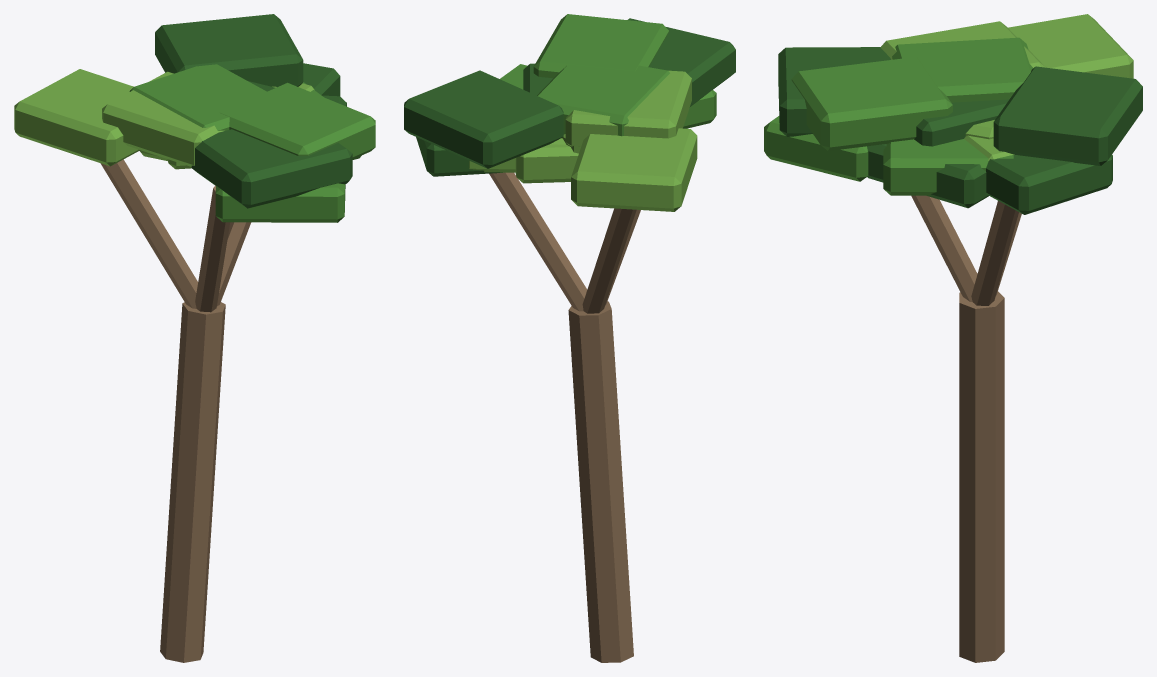
File: arbre_desert_1.glb
3 views of the same model, side by side, from view 1: azimuth 30°, elevation 25°; view 2: azimuth 150°, elevation 25°; view 3: azimuth 270°, elevation 25° (orthographic). The views are drawn at different scales.
Parts seen in each view (by area): view 1: branches_bois_sec.004, feuillage_feuille_sombre.012, feuillage_feuille.012, feuillage_feuille_claire.008; view 2: branches_bois_sec.004, feuillage_feuille_sombre.012, feuillage_feuille_claire.008, feuillage_feuille.012; view 3: feuillage_feuille_sombre.012, feuillage_feuille.012, branches_bois_sec.004, feuillage_feuille_claire.008.
Part boxes in pixels (left/top/right/bottom): branches_bois_sec.004: left=100, top=159, right=251, bottom=662; feuillage_feuille_sombre.012: left=155, top=14, right=352, bottom=208; feuillage_feuille.012: left=129, top=64, right=375, bottom=222; feuillage_feuille_claire.008: left=14, top=69, right=314, bottom=169; branches_bois_sec.004: left=489, top=172, right=640, bottom=662; feuillage_feuille_sombre.012: left=404, top=18, right=735, bottom=176; feuillage_feuille_claire.008: left=469, top=70, right=697, bottom=211; feuillage_feuille.012: left=500, top=14, right=716, bottom=136; feuillage_feuille_sombre.012: left=778, top=47, right=1142, bottom=214; feuillage_feuille.012: left=764, top=37, right=1033, bottom=195; branches_bois_sec.004: left=911, top=195, right=1021, bottom=662; feuillage_feuille_claire.008: left=880, top=14, right=1133, bottom=160.
Size of the model in its own units: 1.98 by 3.62 by 2.07.
